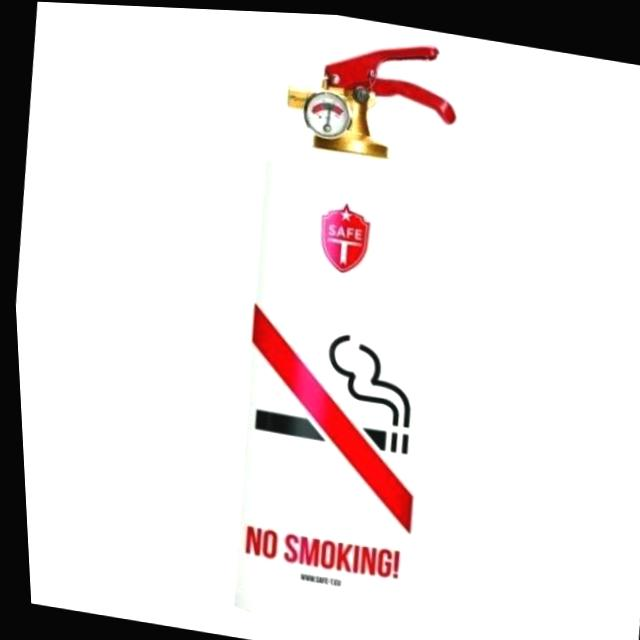FireExtinguisher: (190, 7, 491, 640)
